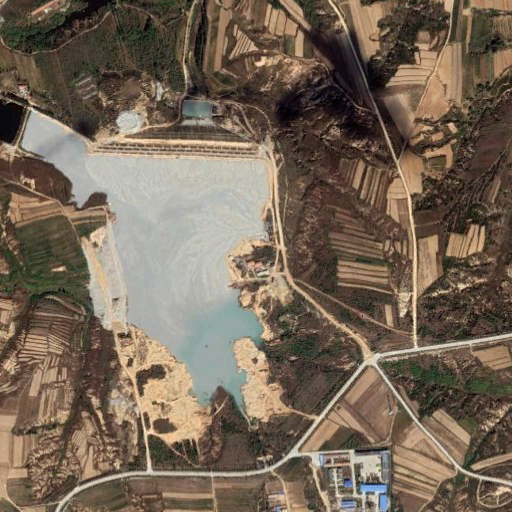tp: (20, 99, 270, 415)
